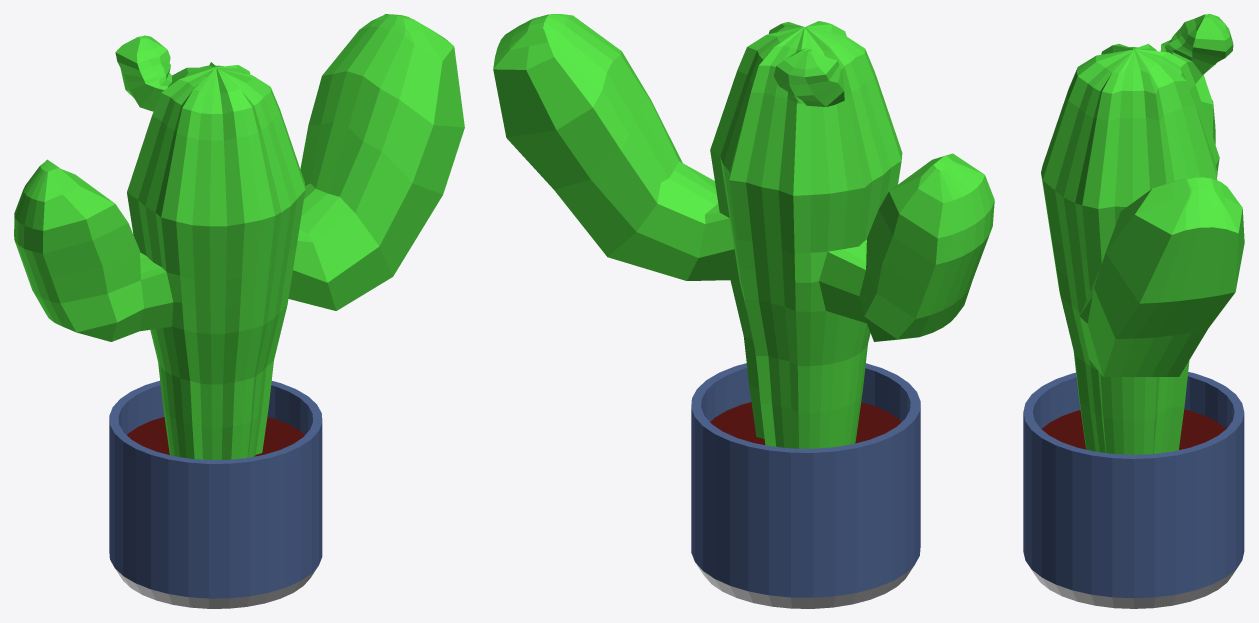
Rendered from Cactu4.fbx.
The picture shows the model from 3 angles, left to right: view 1: azimuth 30°, elevation 25°; view 2: azimuth 150°, elevation 25°; view 3: azimuth 270°, elevation 25°; orthographic projection. The views are drawn at different scales.
Parts seen in each view (by area): view 1: Cylinder.001; view 2: Cylinder.001; view 3: Cylinder.001.
Part boxes in pixels (x1=…): Cylinder.001: x1=14, y1=14, x2=464, y2=608; Cylinder.001: x1=493, y1=14, x2=994, y2=608; Cylinder.001: x1=1023, y1=14, x2=1244, y2=608.
Bounding box in the file's own units: 2034 × 2290 × 865.
